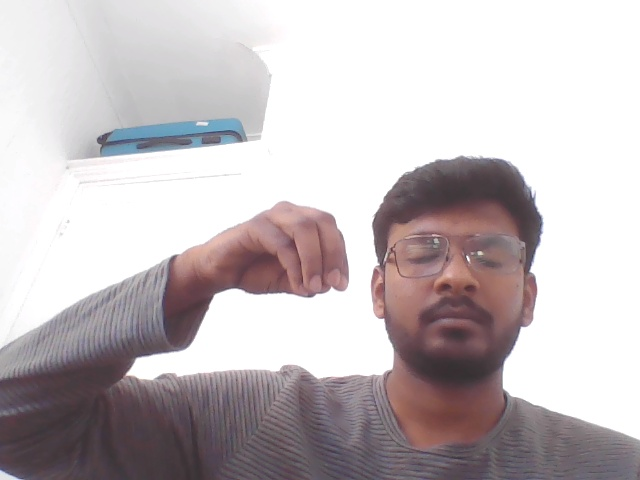Yes: (185, 179, 363, 356)
